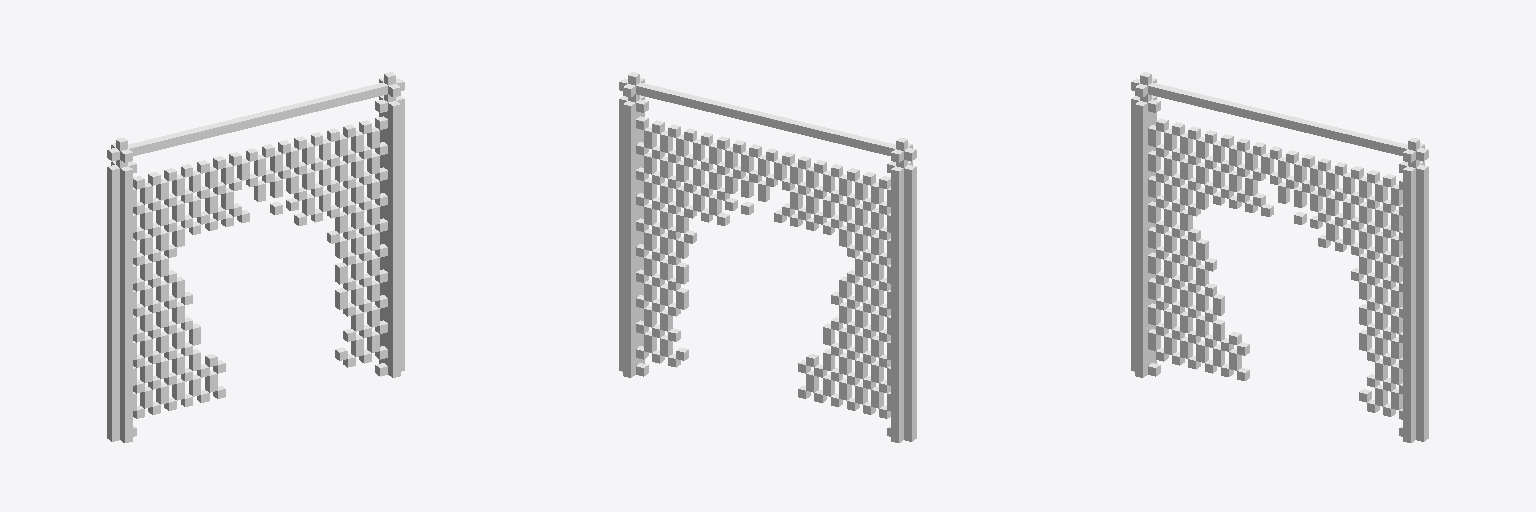
The model's file is FenceBroken.obj.
The picture shows the model from 3 angles: view 1: azimuth 30°, elevation 25°; view 2: azimuth 150°, elevation 25°; view 3: azimuth 330°, elevation 25°; orthographic projection.
Parts seen in each view (by area): view 1: object 1; view 2: object 1; view 3: object 1.
Part boxes in pixels (bbox=[...]): object 1: bbox=[107, 72, 404, 442]; object 1: bbox=[619, 72, 916, 442]; object 1: bbox=[1131, 72, 1428, 442].
Bounding box in the file's own units: 3.6 × 3.5 × 0.3.